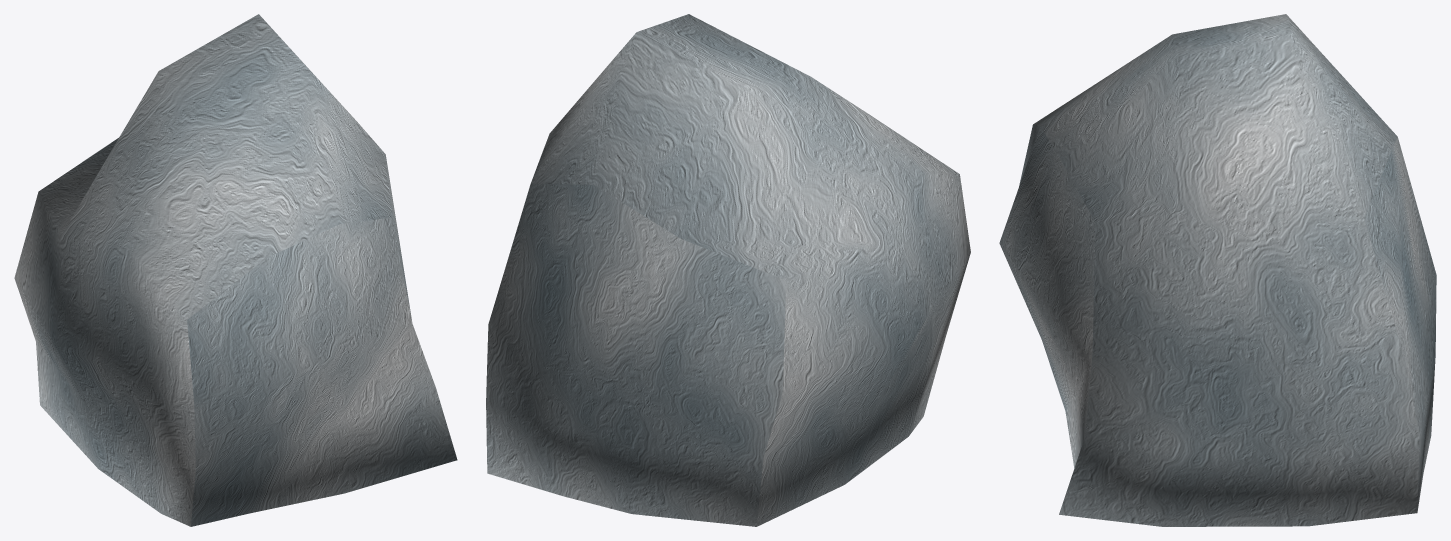
File: m_Rock2.obj
3 renders of one model, left to right at view 1: azimuth 30°, elevation 25°; view 2: azimuth 150°, elevation 25°; view 3: azimuth 270°, elevation 25°, orthographic. The views are drawn at different scales.
Visible parts, largest first — view 1: pCube1; view 2: pCube1; view 3: pCube1.
Part boxes in pixels (<box>): pCube1: <box>14,14,457,526</box>; pCube1: <box>486,14,970,526</box>; pCube1: <box>999,14,1436,526</box>.
Size of the model in its own units: 1124 by 1274 by 1120.
1 material, 1 textured.
